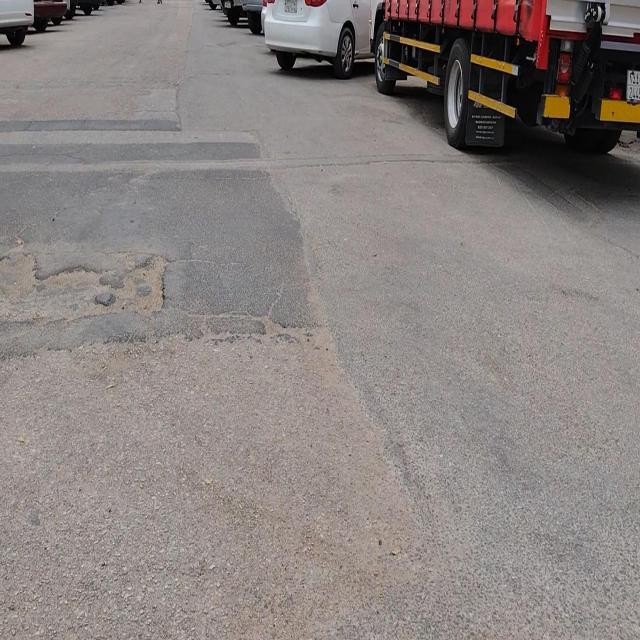Potholes: (36, 263, 109, 323), (118, 251, 173, 318)
